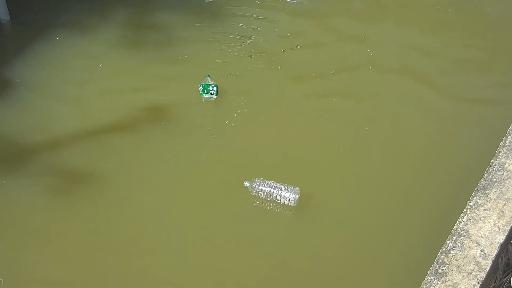plastic: (227, 164, 308, 206), (195, 63, 226, 113)
